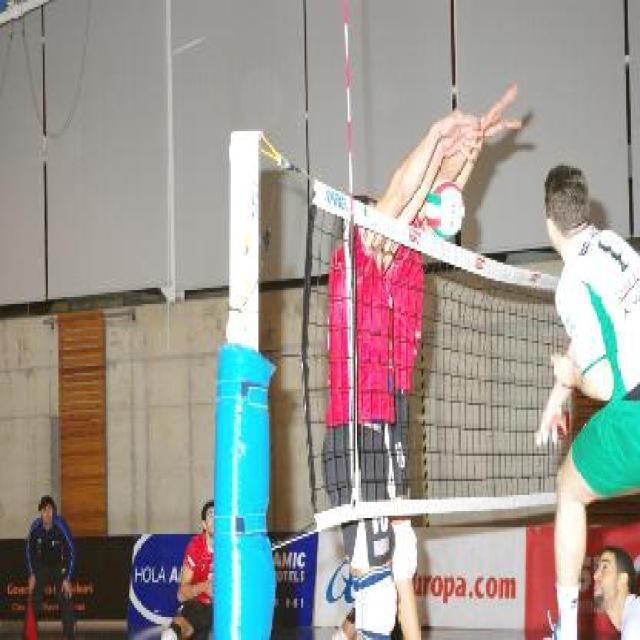volleyball: (425, 184, 466, 238)
